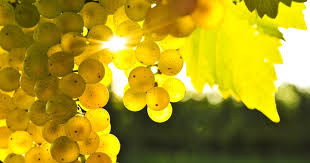Green grapes: (5, 35, 105, 160), (115, 35, 183, 124)
